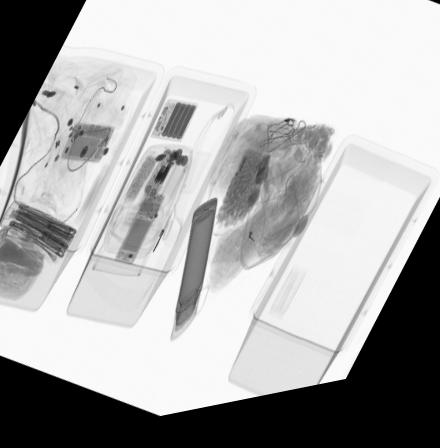Powerbank: (148, 105, 197, 149)
